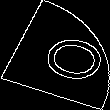O_NW: (13, 25, 97, 85)
